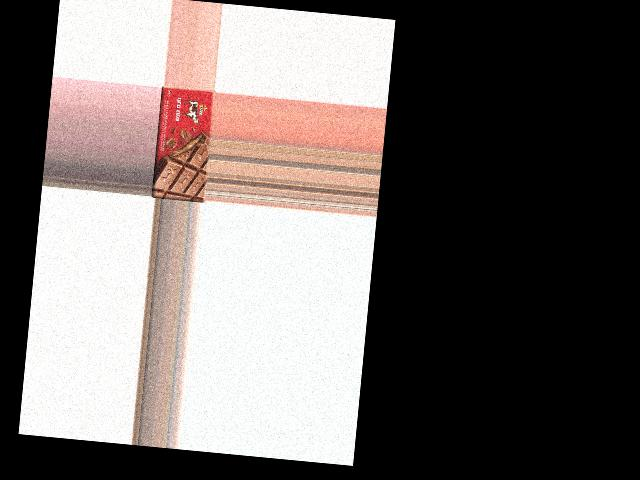chocolate: (152, 85, 215, 201)
